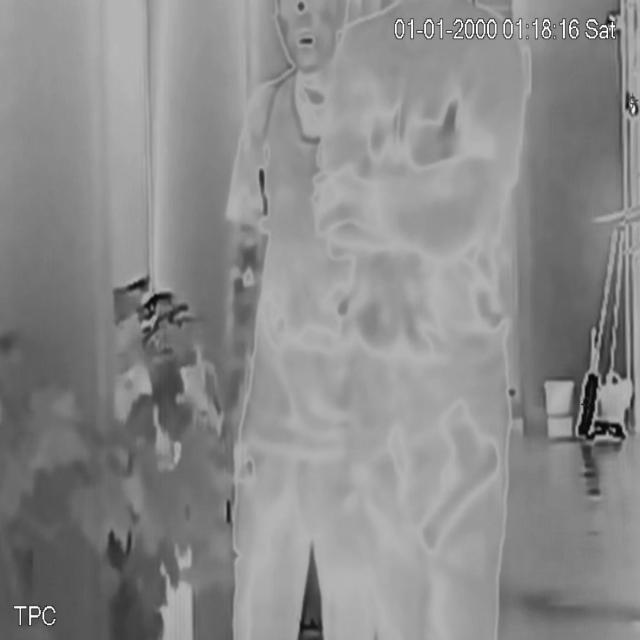Weapon: (420, 401, 500, 558)
